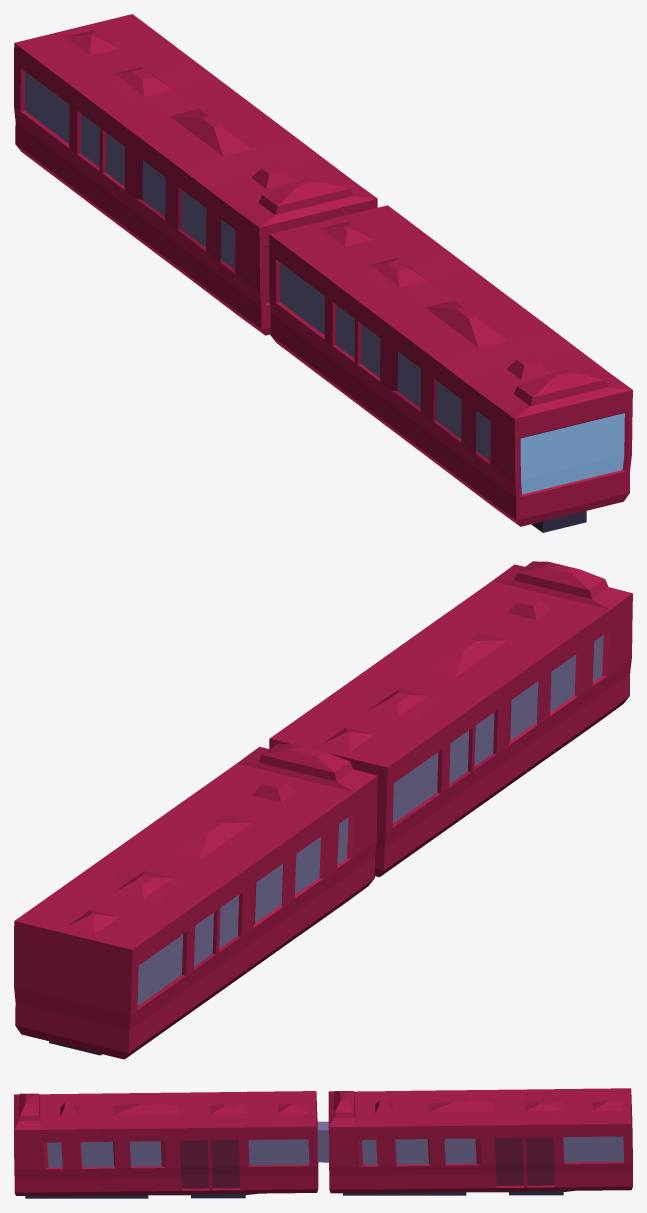
File: train_big.glb
The picture shows the model from 3 angles, top to bottom: view 1: azimuth 30°, elevation 25°; view 2: azimuth 150°, elevation 25°; view 3: azimuth 270°, elevation 25°; orthographic projection. The views are drawn at different scales.
Parts seen in each view (by area): view 1: Cube; view 2: Cube; view 3: Cube, Cube.001.
Part boxes in pixels (x1,y1,x2,y2): Cube: (14,14,632,526); Cube: (14,561,632,1059); Cube: (14,1088,632,1195); Cube.001: (25,1190,574,1198).
Bounding box in the file's own units: 5.43 × 6.83 × 39.87.
